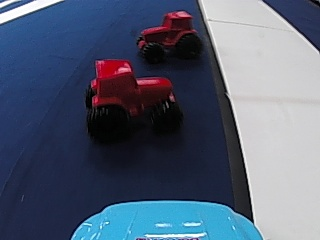tractor: (81, 53, 183, 141), (135, 9, 201, 63)
